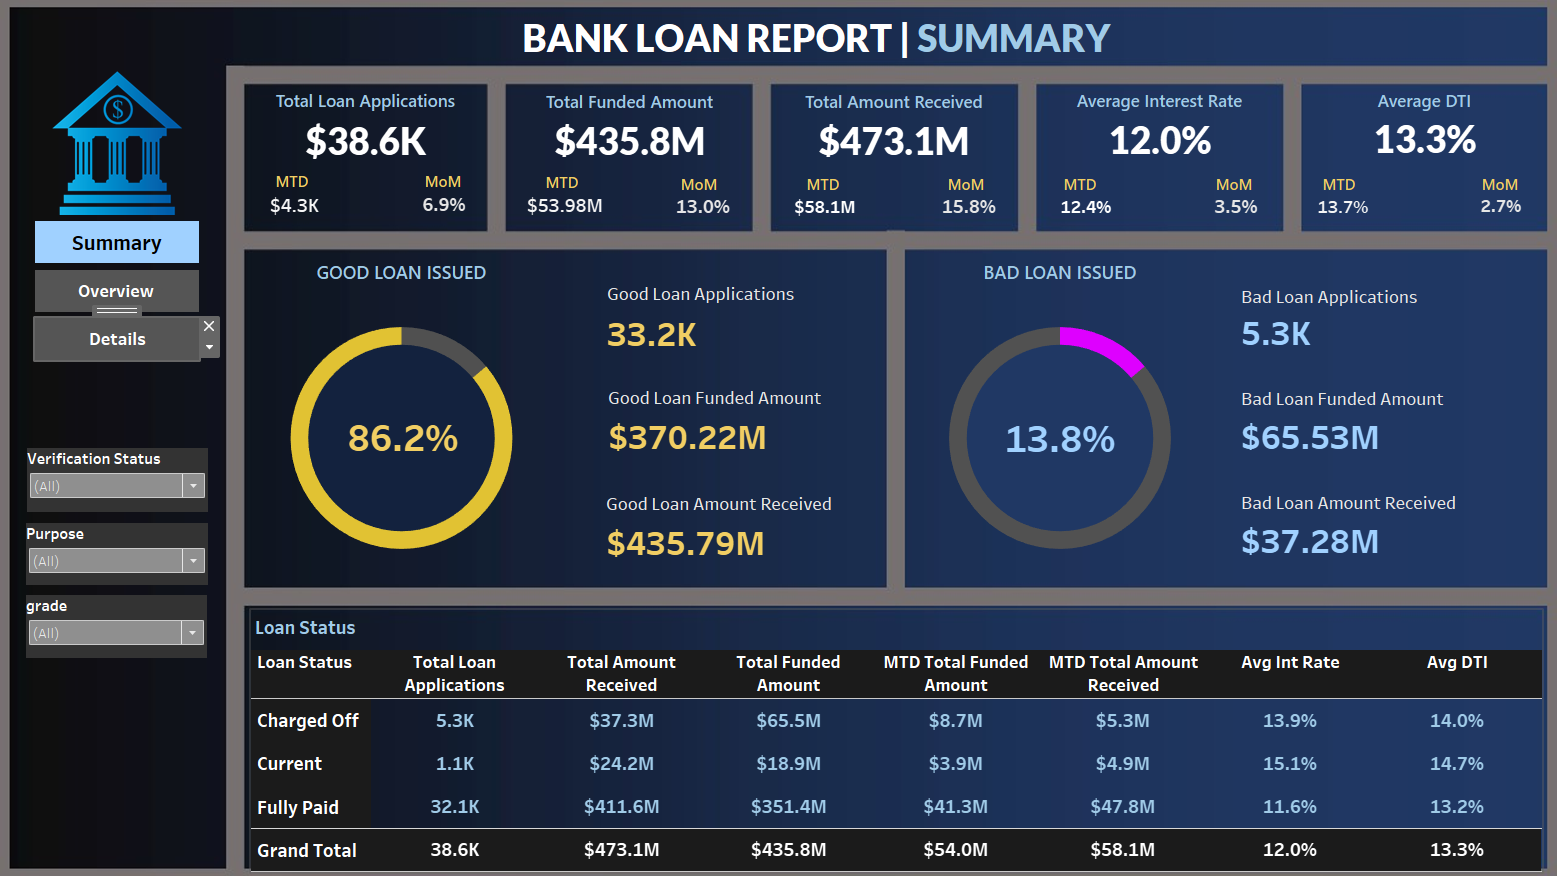

The dashboard page shown, as its layout file describes it:
{"tool":"tableau","page":{"name":"SUMMARY","canvas":[1600,900],"ordinal":2},"visuals":[{"type":"text","box":[540,5,709,90]},{"type":"image","param":"D:/data analysis/sql plus power bi project/drive-download-20241129T133940Z-001/T","box":[8,8,1584,884]},{"type":"worksheet","title":"Total Loan Applications","mark":"Automatic","box":[265,97,243,74]},{"type":"worksheet","title":"Average Interest Rate","mark":"Automatic","box":[1059,97,243,71]},{"type":"worksheet","title":"Average DTI","mark":"Automatic","box":[1324,97,243,69]},{"type":"worksheet","title":"Total Funded Amount","mark":"Automatic","box":[533,98,235,71]},{"type":"worksheet","title":"Total Amount Received","mark":"Automatic","box":[794,98,242,71]},{"type":"text","box":[285,178,56,30]},{"type":"text","box":[436,178,56,30]},{"type":"text","box":[555,179,56,30]},{"type":"text","box":[692,181,56,30]},{"type":"text","box":[816,181,56,30]},{"type":"text","box":[959,181,56,30]},{"type":"text","box":[1073,181,56,30]},{"type":"text","box":[1227,181,56,30]},{"type":"text","box":[1332,181,56,30]},{"type":"text","box":[1493,181,56,30]},{"type":"worksheet","title":"MTD Total Funded Amount","mark":"Automatic","box":[541,195,89,44]},{"type":"worksheet","title":"MoM Avg DTI","mark":"Automatic","box":[1479,195,86,43]},{"type":"worksheet","title":"MoM Total Funded Amount","mark":"Automatic","box":[686,196,75,43]},{"type":"worksheet","title":"MoM Total Amount Received","mark":"Automatic","box":[949,196,81,44]},{"type":"worksheet","title":"MTD Total Loan Applications","mark":"Automatic","box":[287,199,56,35]},{"type":"worksheet","title":"MTD Avg INT Rate","mark":"Automatic","box":[1060,199,94,38]},{"type":"worksheet","title":"MTD Avg DTI","mark":"Automatic","box":[1319,199,90,37]},{"type":"worksheet","title":"MoM Avg Int Rate","mark":"Automatic","box":[1218,200,77,35]},{"type":"worksheet","title":"MTD Total Amount Received","mark":"Automatic","box":[805,201,82,34]},{"type":"worksheet","title":"MoM Loan Appications","mark":"Automatic","box":[434,202,61,27]},{"type":"dashboard-object","box":[56,233,164,42]},{"type":"worksheet","title":"Good Loan Issued","mark":"Pie","rows":["Calculation_1009650761896906793","Calculation_1009650761896906793"],"box":[271,268,303,325]},{"type":"worksheet","title":"Bad Loan Issued","mark":"Pie","rows":["Calculation_1009650761896906793","Calculation_1009650761896906793"],"box":[931,268,300,325]},{"type":"dashboard-object","box":[56,282,164,42]},{"type":"worksheet","title":"Good Loan Applications","mark":"Automatic","box":[620,285,276,81]},{"type":"worksheet","title":"Bad Loan Applications","mark":"Automatic","box":[1254,288,300,73]},{"type":"dashboard-object","box":[56,330,164,42]},{"type":"worksheet","title":"Good Loan Funded Amount","mark":"Automatic","box":[621,389,275,78]},{"type":"worksheet","title":"Bad Loan Funded Amount","mark":"Automatic","box":[1254,390,300,76]},{"type":"worksheet","title":"Bad Loan %","mark":"Automatic","box":[1007,397,147,104]},{"type":"worksheet","title":"Good Loan Application %","mark":"Automatic","box":[358,404,132,87]},{"type":"filter","title":"Good Loan Issued","param":"[federated.1mws0540yeynuy15g0irx0qm9odg].[none:verification_status:nk]","box":[48,460,181,64]},{"type":"worksheet","title":"Bad Loan Amount Received","mark":"Automatic","box":[1254,494,300,77]},{"type":"worksheet","title":"Good Loan Amount Received","mark":"Automatic","box":[619,495,277,78]},{"type":"filter","title":"Good Loan Issued","param":"[federated.1mws0540yeynuy15g0irx0qm9odg].[none:purpose:nk]","box":[47,535,182,62]},{"type":"filter","title":"Good Loan Issued","param":"[federated.1mws0540yeynuy15g0irx0qm9odg].[none:grade:nk]","box":[47,607,181,63]},{"type":"worksheet","title":"Loan Status","mark":"Automatic","rows":["loan_status"],"box":[272,622,1291,262]}]}

Visuals, with their boxes in screenshot pixels (x1, y1, x2, y2), scaled from the page's 1600x900 canvas onto the 1557x876 screenshot:
text: (525,5,1215,92)
image: (8,8,1549,868)
"Total Loan Applications" worksheet: (258,94,494,166)
"Average Interest Rate" worksheet: (1031,94,1267,164)
"Average DTI" worksheet: (1288,94,1525,162)
"Total Funded Amount" worksheet: (519,95,747,164)
"Total Amount Received" worksheet: (773,95,1008,164)
text: (277,173,332,202)
text: (424,173,479,202)
text: (540,174,595,203)
text: (673,176,728,205)
text: (794,176,849,205)
text: (933,176,988,205)
text: (1044,176,1099,205)
text: (1194,176,1249,205)
text: (1296,176,1351,205)
text: (1453,176,1507,205)
"MTD Total Funded Amount" worksheet: (526,190,613,233)
"MoM Avg DTI" worksheet: (1439,190,1523,232)
"MoM Total Funded Amount" worksheet: (668,191,741,233)
"MoM Total Amount Received" worksheet: (923,191,1002,234)
"MTD Total Loan Applications" worksheet: (279,194,334,228)
"MTD Avg INT Rate" worksheet: (1032,194,1123,231)
"MTD Avg DTI" worksheet: (1284,194,1371,230)
"MoM Avg Int Rate" worksheet: (1185,195,1260,229)
"MTD Total Amount Received" worksheet: (783,196,863,229)
"MoM Loan Appications" worksheet: (422,197,482,223)
dashboard-object: (54,227,214,268)
"Good Loan Issued" worksheet (Pie marks): (264,261,559,577)
"Bad Loan Issued" worksheet (Pie marks): (906,261,1198,577)
dashboard-object: (54,274,214,315)
"Good Loan Applications" worksheet: (603,277,872,356)
"Bad Loan Applications" worksheet: (1220,280,1512,351)
dashboard-object: (54,321,214,362)
"Good Loan Funded Amount" worksheet: (604,379,872,455)
"Bad Loan Funded Amount" worksheet: (1220,380,1512,454)
"Bad Loan %" worksheet: (980,386,1123,488)
"Good Loan Application %" worksheet: (348,393,477,478)
"Good Loan Issued" filter: (47,448,223,510)
"Bad Loan Amount Received" worksheet: (1220,481,1512,556)
"Good Loan Amount Received" worksheet: (602,482,872,558)
"Good Loan Issued" filter: (46,521,223,581)
"Good Loan Issued" filter: (46,591,222,652)
"Loan Status" worksheet: (265,605,1521,860)
